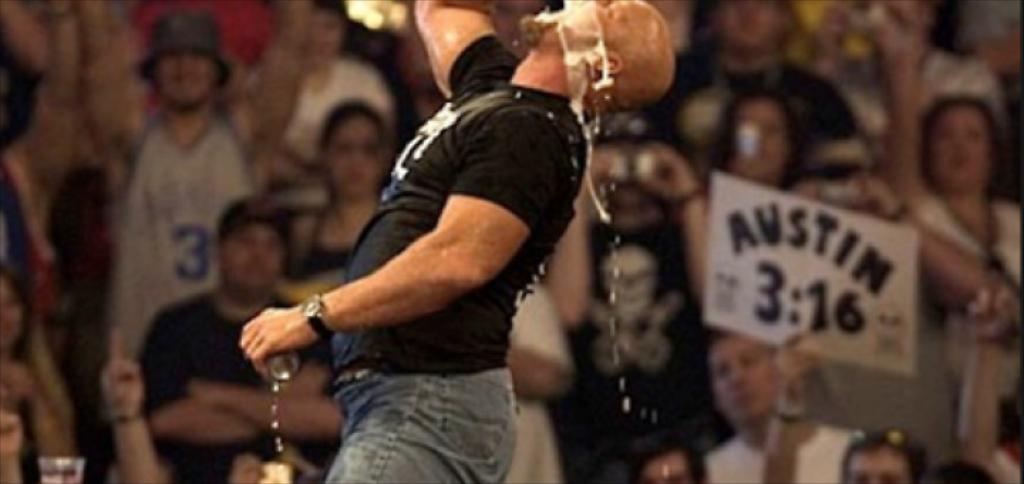Human_hand: (238, 296, 306, 376), (95, 323, 142, 419), (774, 323, 822, 416), (870, 0, 926, 68), (572, 145, 619, 218), (641, 141, 697, 199), (964, 280, 1014, 342), (811, 1, 856, 63), (848, 177, 900, 218), (0, 401, 21, 463), (0, 360, 38, 394), (188, 379, 232, 406)
